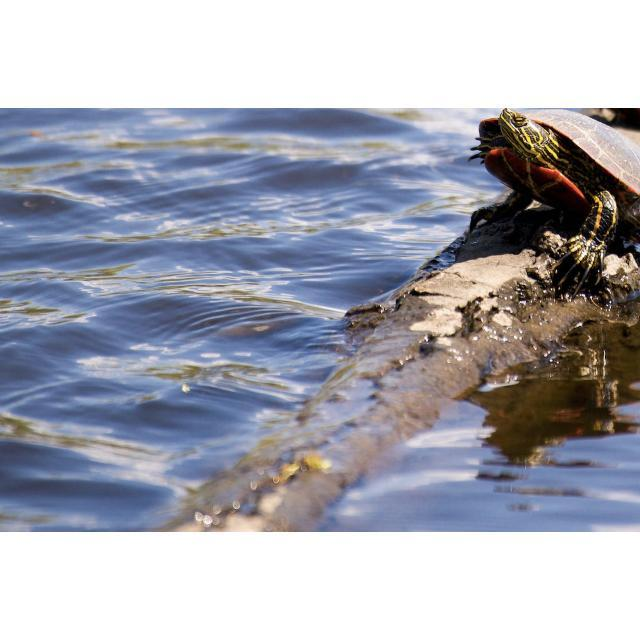turtle: (469, 110, 639, 298)
